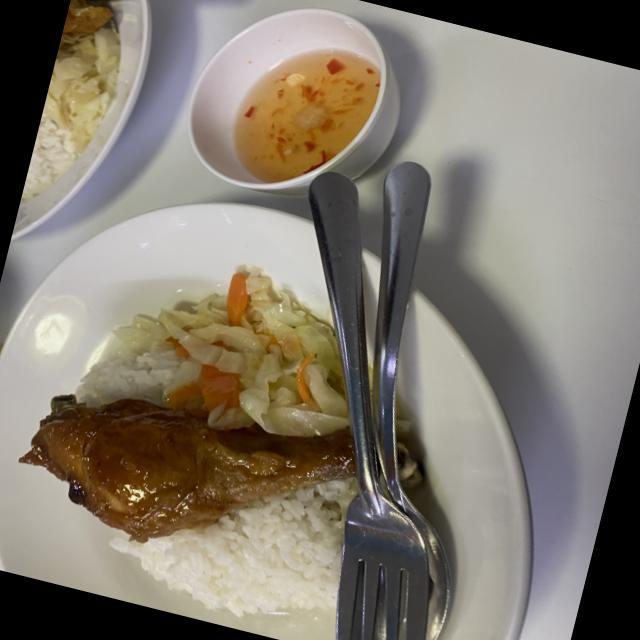com: (109, 478, 356, 618), (75, 348, 185, 407)
ga chien: (18, 399, 354, 542)
nuoc mam: (233, 51, 379, 182)
rau: (105, 265, 348, 436)
